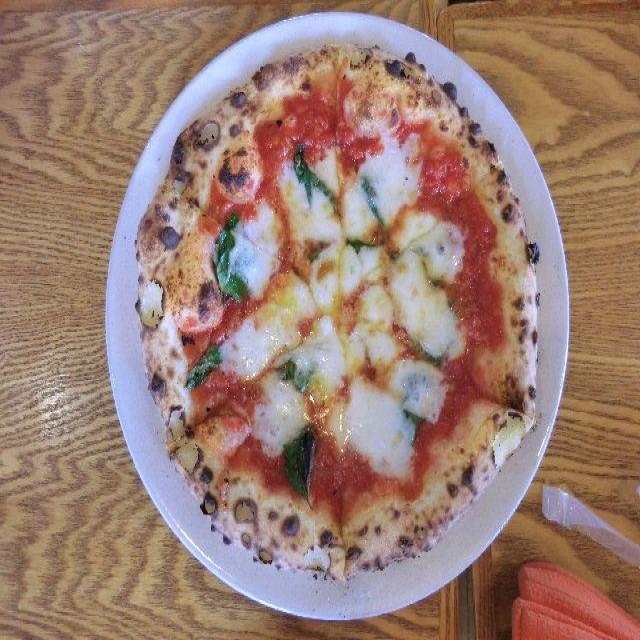Pizza: (144, 62, 536, 566)
